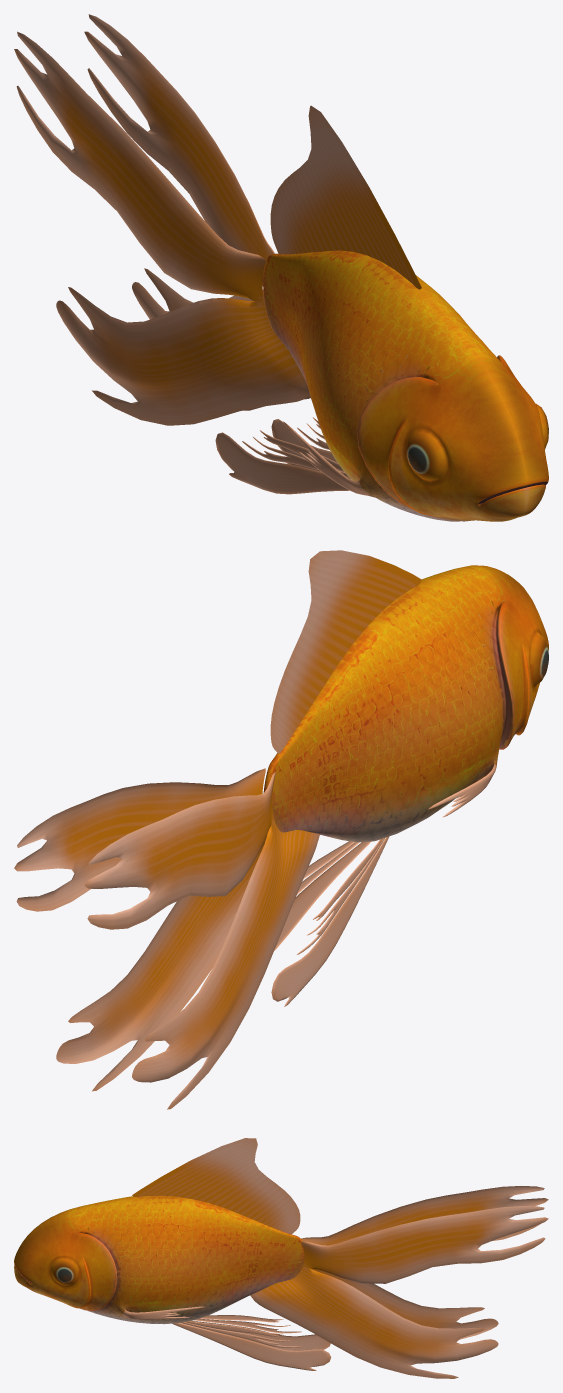
Rendered from orange_fish.glb.
3 renders of one model, top to bottom at view 1: azimuth 30°, elevation 25°; view 2: azimuth 150°, elevation 25°; view 3: azimuth 270°, elevation 25°, orthographic. The views are drawn at different scales.
Parts seen in each view (by area): view 1: Cube.006; view 2: Cube.006; view 3: Cube.006.
Part boxes in pixels (box(x1,y1,x2,y2)): Cube.006: box(14, 14, 548, 521); Cube.006: box(14, 550, 548, 1109); Cube.006: box(14, 1138, 548, 1378).
Size of the model in its own units: 0.7962 by 2.01 by 4.23.
1 material, 1 textured.
